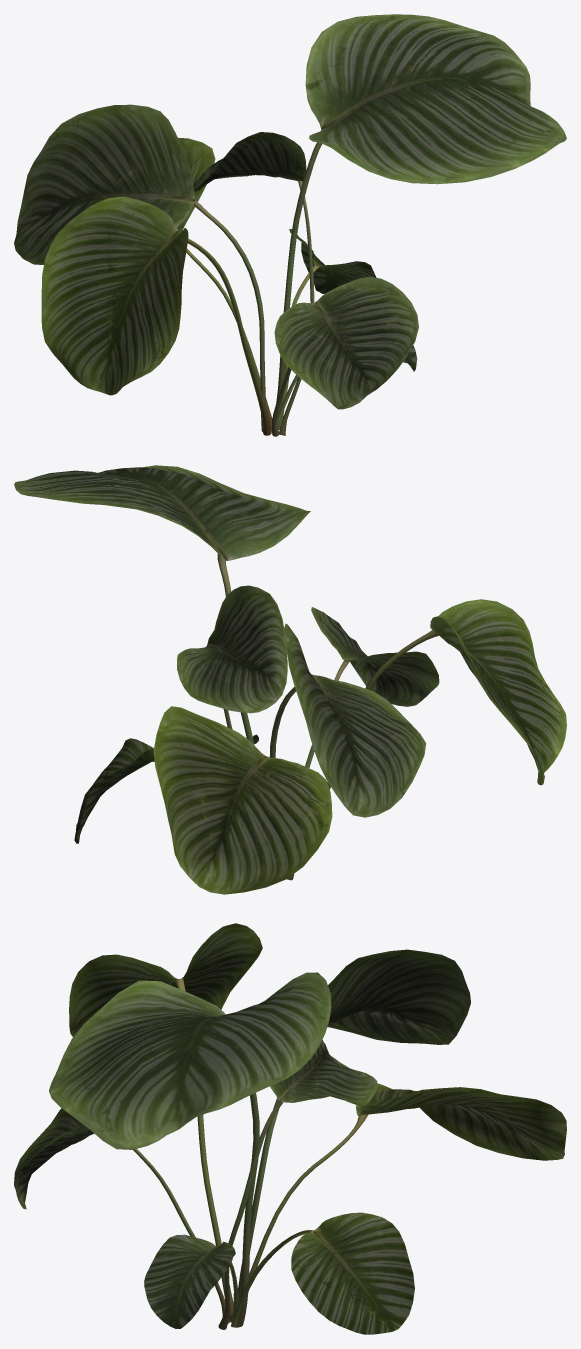
Rendered from calathea_orbifolia_01_a.gltf.
3 views of the same model, one above another, from view 1: azimuth 30°, elevation 25°; view 2: azimuth 150°, elevation 25°; view 3: azimuth 270°, elevation 25° (orthographic). The views are drawn at different scales.
Visible parts, largest first — view 1: calathea_orbifolia_01_a; view 2: calathea_orbifolia_01_a; view 3: calathea_orbifolia_01_a.
Part boxes in pixels (x1,y1,x2,y2): calathea_orbifolia_01_a: (14, 14, 566, 436); calathea_orbifolia_01_a: (14, 465, 566, 894); calathea_orbifolia_01_a: (14, 923, 566, 1334).
Size of the model in its own units: 0.6006 by 0.4243 by 0.5256.
1 material, 1 textured.
